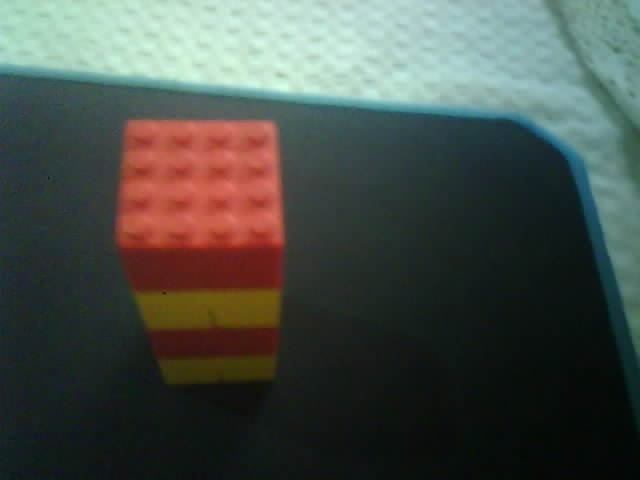lego: (112, 114, 286, 388)
